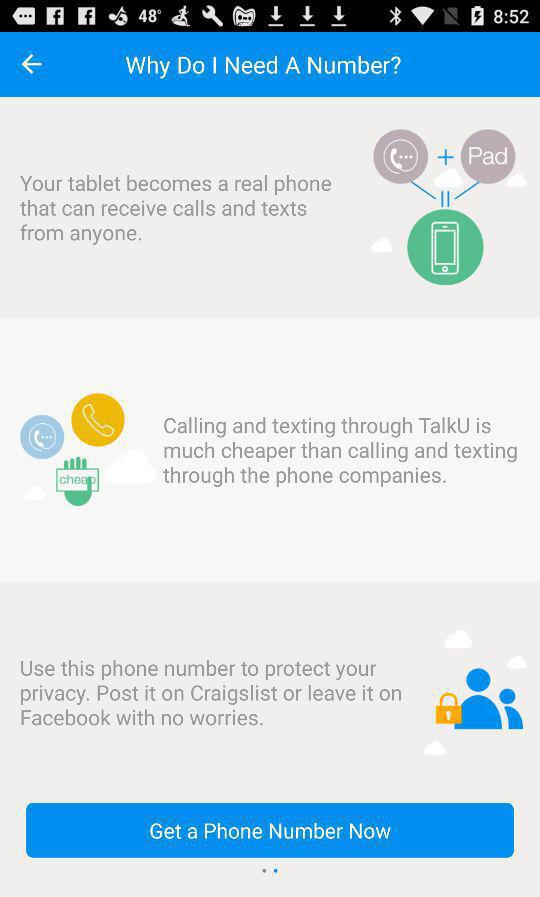Icon: (22, 54, 44, 75)
Image: (370, 129, 527, 287), (19, 392, 155, 506), (422, 629, 527, 756)
PageIndicator: (260, 866, 279, 875)
Text: (21, 659, 403, 727), (163, 416, 518, 489), (20, 174, 333, 247), (126, 56, 402, 81)
TextButton: (25, 802, 515, 859)
Toolbar: (1, 33, 540, 98)
UpperTaskBar: (1, 1, 540, 33)
